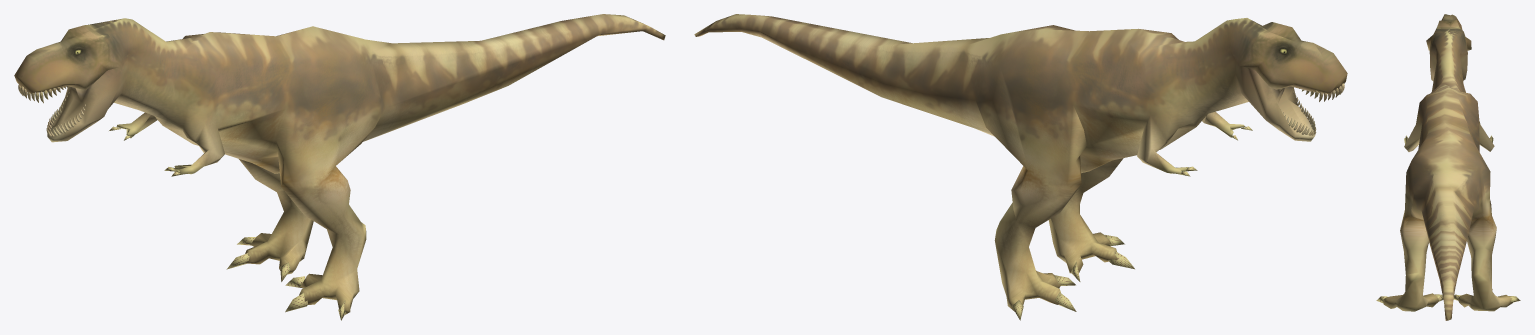
Rendered from Dinosaur.FBX.
The picture shows the model from 3 angles, left to right: view 1: azimuth 30°, elevation 25°; view 2: azimuth 150°, elevation 25°; view 3: azimuth 270°, elevation 25°; orthographic projection. The views are drawn at different scales.
Visible parts, largest first — view 1: DIENTS; view 2: DIENTS; view 3: DIENTS.
Part boxes in pixels (x1=…): DIENTS: x1=14, y1=14, x2=665, y2=320; DIENTS: x1=694, y1=14, x2=1347, y2=320; DIENTS: x1=1376, y1=14, x2=1520, y2=320.
Bounding box in the file's own units: 1388 × 630 × 388.
